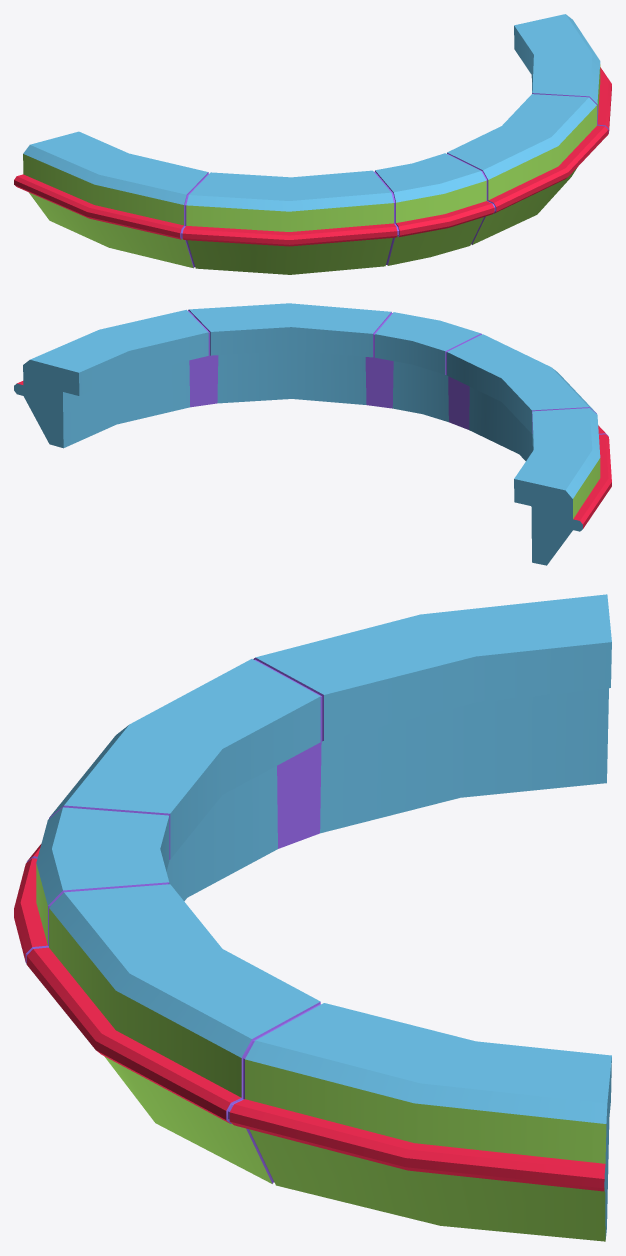
The model's file is ReceptionDesk.fbx.
3 renders of one model, top to bottom at view 1: azimuth 30°, elevation 25°; view 2: azimuth 150°, elevation 25°; view 3: azimuth 270°, elevation 25°, orthographic. The views are drawn at different scales.
Parts seen in each view (by area): view 1: Cylinder001; view 2: Cylinder001; view 3: Cylinder001.
Boxes of the visible parts, x1,y1,x2,y2 form: Cylinder001: (14, 14, 611, 274); Cylinder001: (14, 303, 611, 565); Cylinder001: (14, 594, 611, 1241).
Size of the model in its own units: 933 by 126 by 436.
